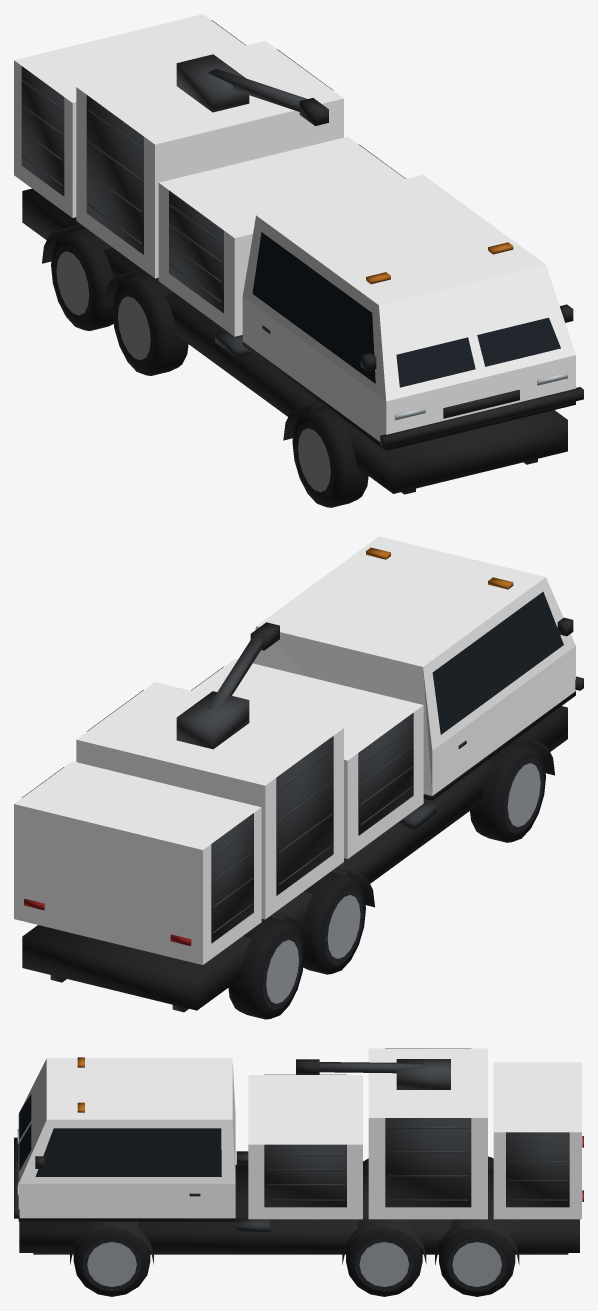
File: brakhaus_sentinela.glb
The picture shows the model from 3 angles, top to bottom: view 1: azimuth 30°, elevation 25°; view 2: azimuth 150°, elevation 25°; view 3: azimuth 270°, elevation 25°; orthographic projection. The views are drawn at different scales.
Visible parts, largest first — view 1: Body_Paint, Body_Details, Mount_RearLeft_Wheel_Details, Mount_FrontLeft_Wheel_Details, Mount_Rear2Left_Wheel_Details; view 2: Body_Paint, Body_Details, Mount_Rear2Left_Wheel_Details, Mount_FrontLeft_Wheel_Details, Mount_RearLeft_Wheel_Details; view 3: Body_Paint, Body_Details, Mount_FrontRight_Wheel_Details, Mount_Rear2Right_Wheel_Details, Mount_RearRight_Wheel_Details.
Boxes of the visible parts, bbox=[...] form: Body_Paint: bbox=[14, 14, 575, 441]; Body_Details: bbox=[21, 20, 583, 494]; Mount_RearLeft_Wheel_Details: bbox=[112, 273, 188, 375]; Mount_FrontLeft_Wheel_Details: bbox=[292, 406, 368, 507]; Mount_Rear2Left_Wheel_Details: bbox=[51, 228, 113, 330]; Body_Paint: bbox=[14, 536, 575, 964]; Body_Details: bbox=[22, 547, 583, 1012]; Mount_Rear2Left_Wheel_Details: bbox=[228, 917, 304, 1019]; Mount_FrontLeft_Wheel_Details: bbox=[470, 741, 545, 842]; Mount_RearLeft_Wheel_Details: bbox=[303, 872, 365, 974]; Body_Paint: bbox=[18, 1048, 581, 1219]; Body_Details: bbox=[14, 1048, 583, 1265]; Mount_FrontRight_Wheel_Details: bbox=[73, 1227, 150, 1296]; Mount_Rear2Right_Wheel_Details: bbox=[439, 1227, 515, 1296]; Mount_RearRight_Wheel_Details: bbox=[346, 1227, 422, 1296].
Size of the model in its own units: 3.01 by 3.65 by 9.09.
2 materials, 1 textured.
